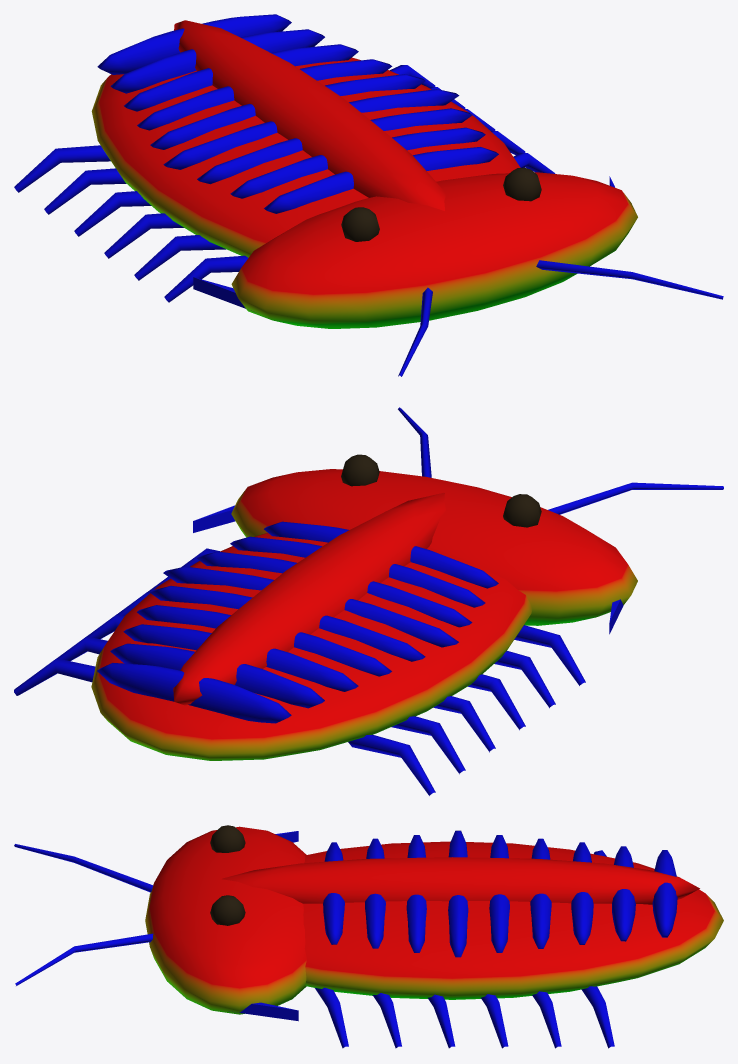
The model's file is fish_trilobite.glb.
The picture shows the model from 3 angles, top to bottom: view 1: azimuth 30°, elevation 25°; view 2: azimuth 150°, elevation 25°; view 3: azimuth 270°, elevation 25°; orthographic projection. The views are drawn at different scales.
Visible parts, largest first — view 1: Body, Eye; view 2: Body, Eye; view 3: Body, Eye.
Boxes of the visible parts, bbox=[...] form: Body: bbox=[14, 14, 723, 376]; Eye: bbox=[341, 167, 541, 241]; Body: bbox=[14, 407, 723, 795]; Eye: bbox=[341, 454, 541, 527]; Body: bbox=[14, 826, 723, 1048]; Eye: bbox=[210, 825, 245, 925].
Bounding box in the file's own units: 0.7275 × 0.19 × 1.2.
